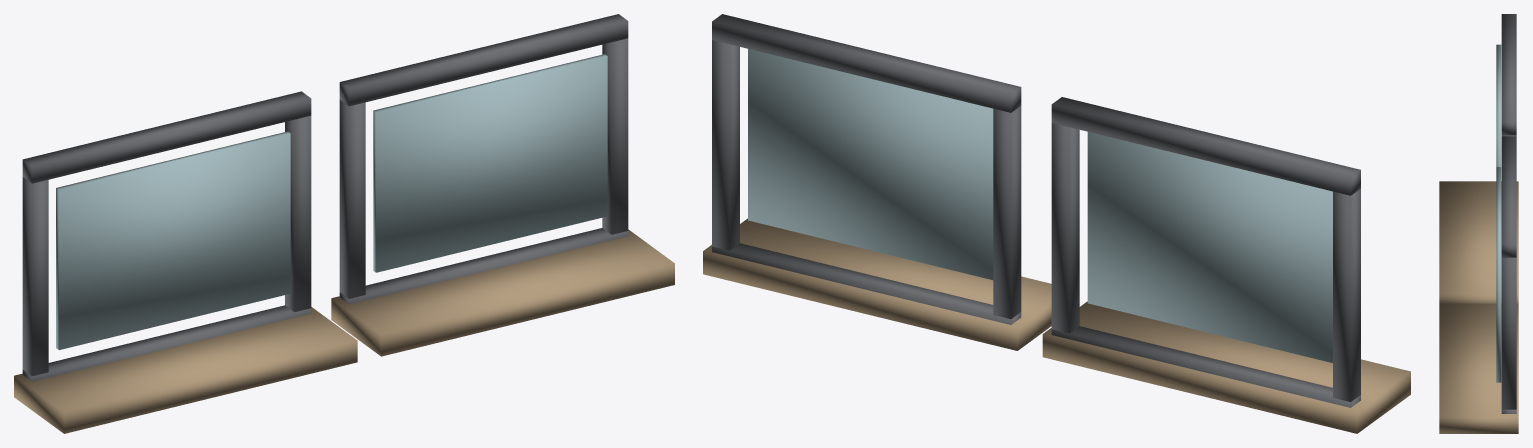
The model's file is service_window__cluster.glb.
The picture shows the model from 3 angles, left to right: view 1: azimuth 30°, elevation 25°; view 2: azimuth 150°, elevation 25°; view 3: azimuth 270°, elevation 25°; orthographic projection. The views are drawn at different scales.
Parts seen in each view (by area): view 1: world; view 2: world; view 3: world.
Part boxes in pixels (x1,y1,x2,y2): world: (14, 14, 674, 433); world: (703, 14, 1410, 433); world: (1439, 14, 1518, 433).
Size of the model in its own units: 2.95 by 1.1 by 0.42.
